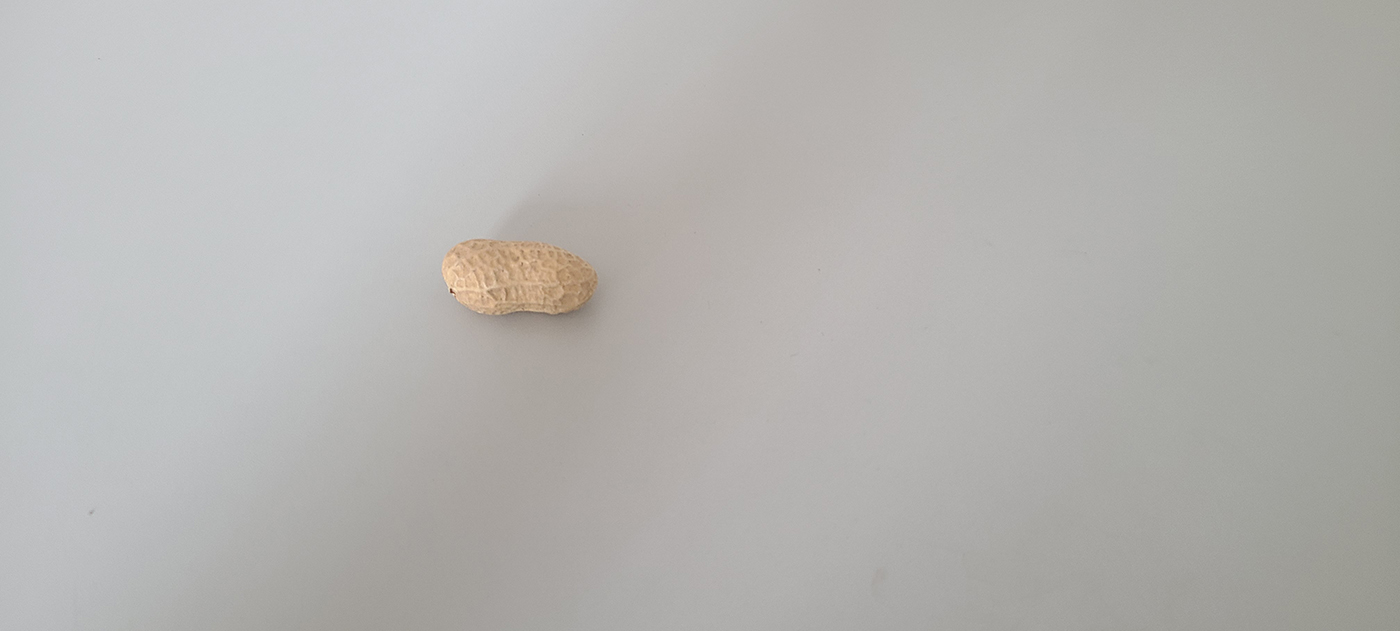h: (439, 237, 601, 318)
